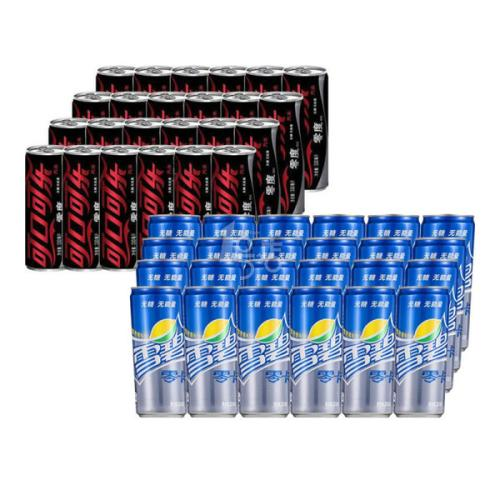coke_zero: (286, 61, 335, 192), (21, 142, 67, 273), (99, 145, 138, 270)
